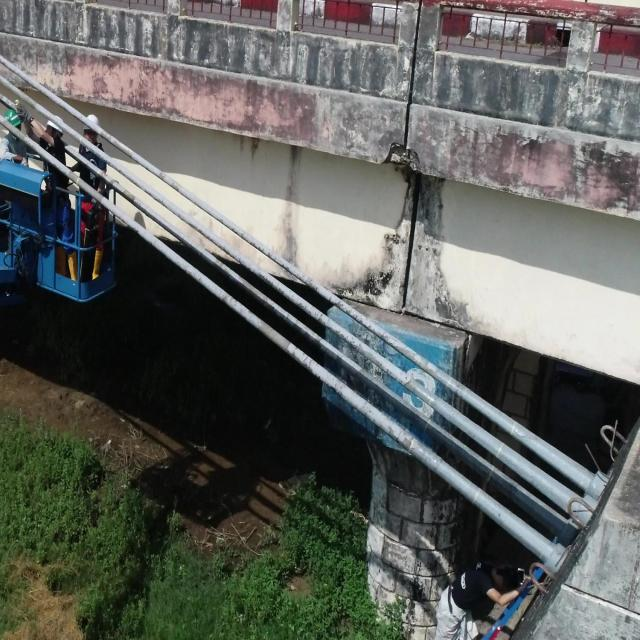crack: (396, 431, 401, 442), (308, 359, 313, 368), (268, 328, 274, 335), (302, 356, 308, 362), (318, 314, 323, 321), (161, 198, 165, 204), (328, 296, 332, 301), (318, 338, 322, 343), (238, 258, 240, 261), (179, 213, 180, 218)
